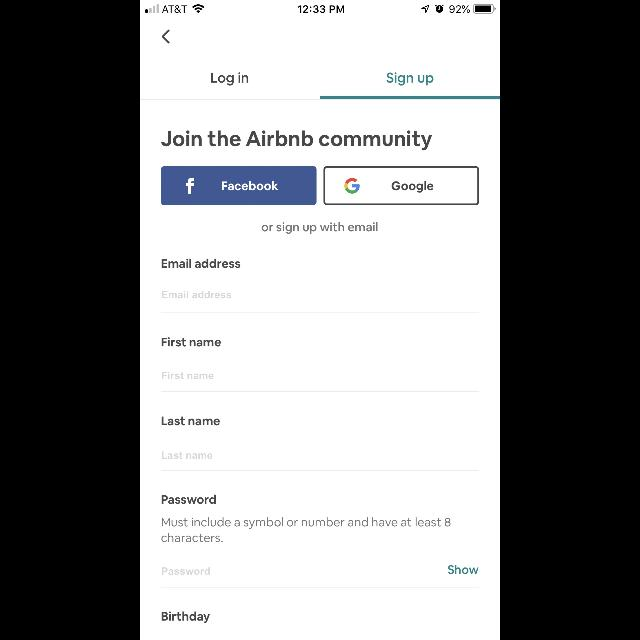icon: (162, 30, 170, 44)
input: (161, 564, 479, 588), (161, 290, 479, 314), (161, 451, 479, 471), (161, 372, 479, 392)
text: (162, 518, 450, 542), (162, 131, 432, 151), (262, 222, 378, 234), (162, 258, 240, 268), (386, 72, 434, 86), (162, 337, 222, 347), (162, 416, 220, 426), (162, 611, 210, 623), (162, 290, 232, 298), (162, 494, 216, 504), (212, 72, 248, 86), (162, 372, 214, 380), (162, 451, 214, 459), (162, 567, 210, 575), (448, 564, 478, 574)
textbutton: (162, 167, 316, 206), (324, 167, 478, 206)
uppertaskbar: (140, 0, 500, 14)
